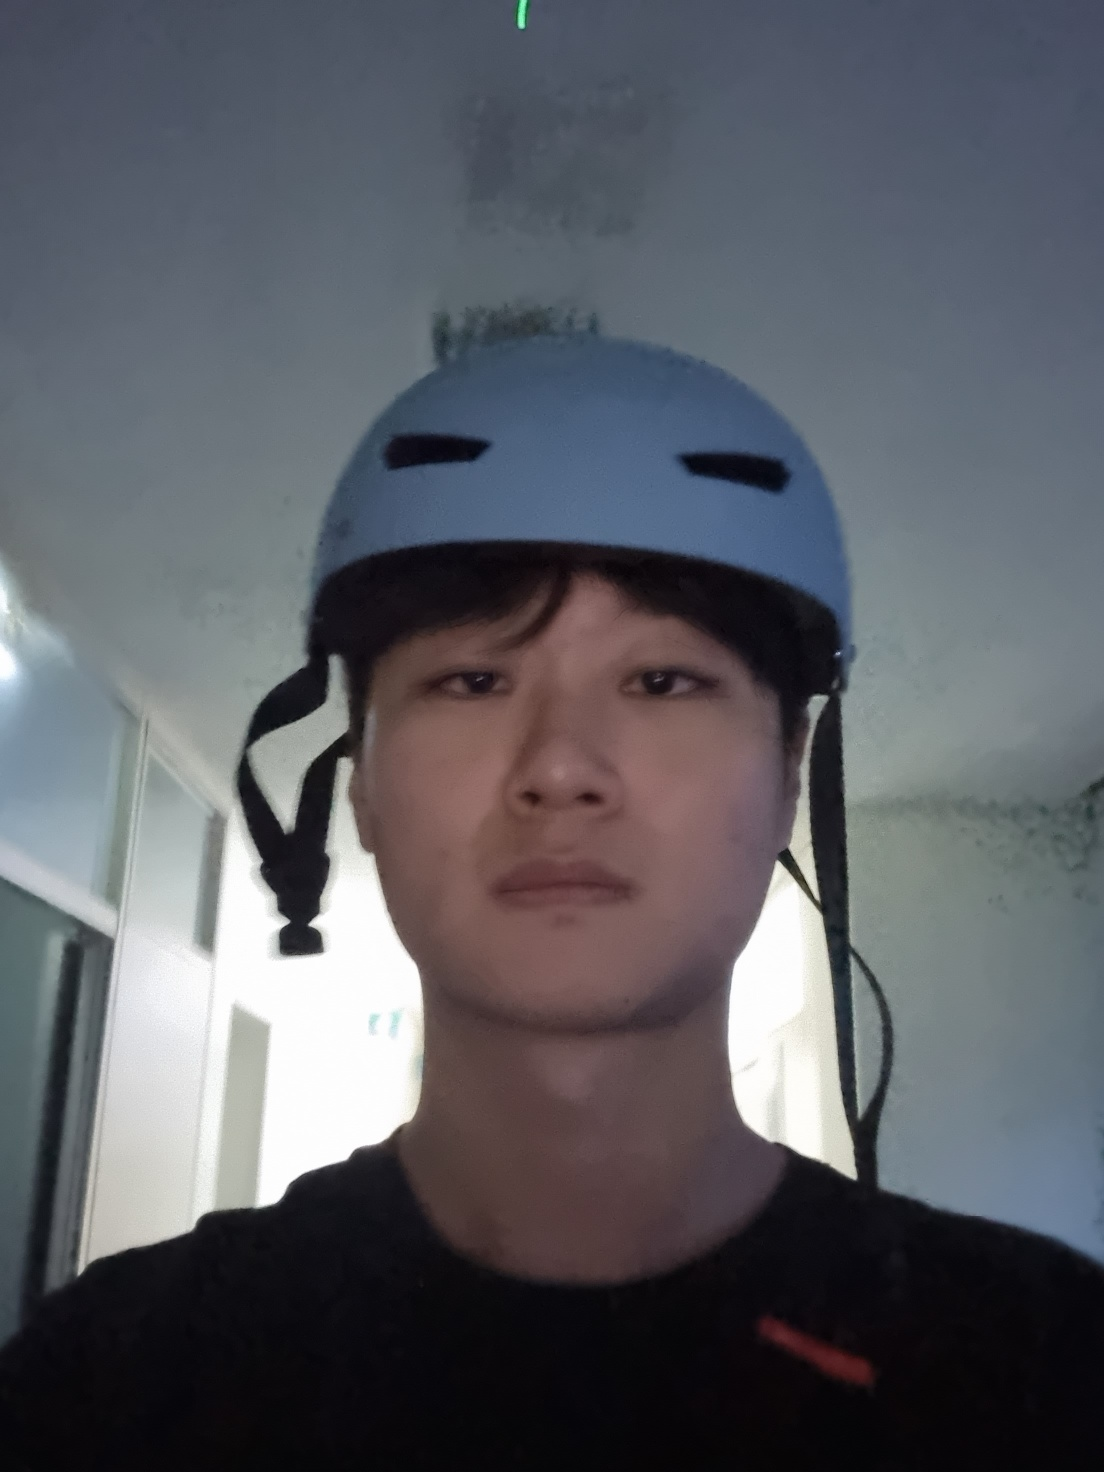Helmet: (252, 309, 902, 1058)
